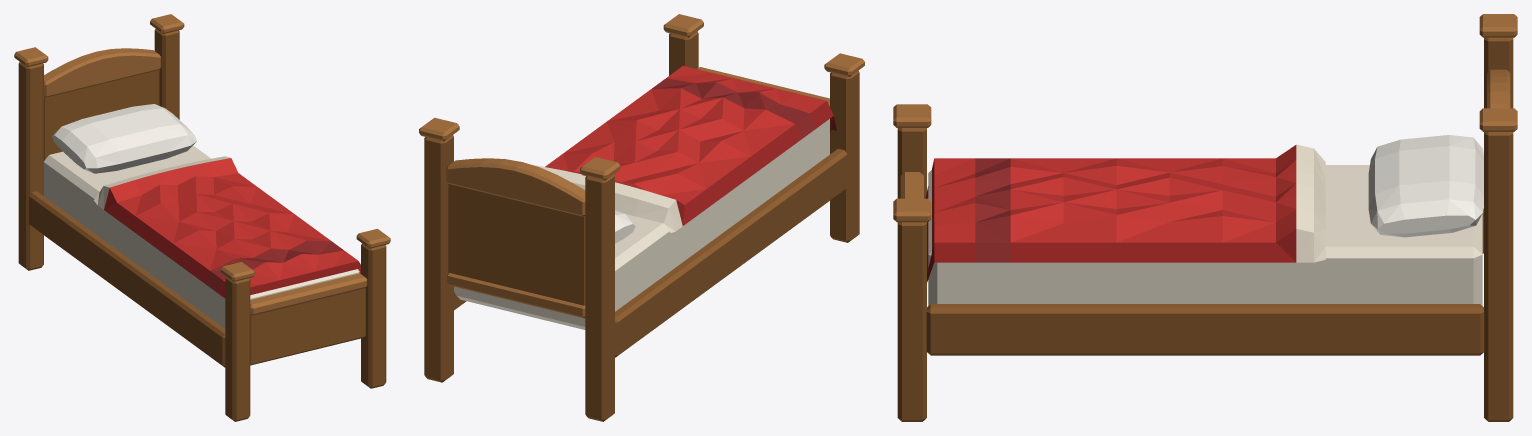
File: Prop_Bed.fbx
The picture shows the model from 3 angles, left to right: view 1: azimuth 30°, elevation 25°; view 2: azimuth 150°, elevation 25°; view 3: azimuth 270°, elevation 25°; orthographic projection. The views are drawn at different scales.
Parts seen in each view (by area): view 1: Prop_Bed; view 2: Prop_Bed; view 3: Prop_Bed.
Boxes of the visible parts, x1,y1,x2,y2 form: Prop_Bed: (14,14,390,421); Prop_Bed: (419,14,864,421); Prop_Bed: (893,14,1517,421).
Bounding box in the file's own units: 0.89 × 1.14 × 2.13.
